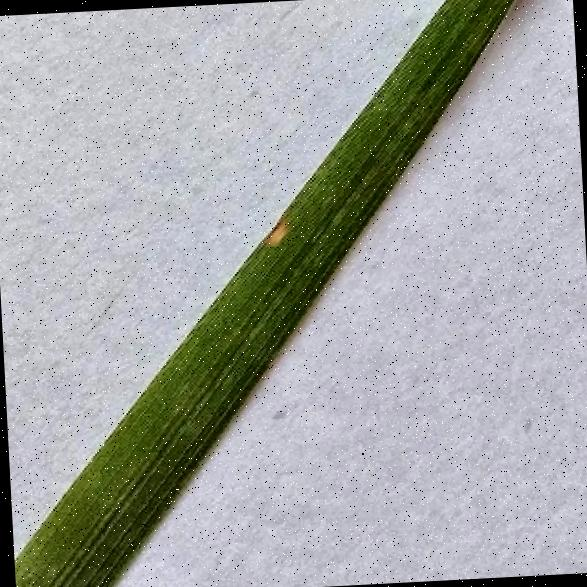Leaf_smut: (247, 187, 349, 266)
